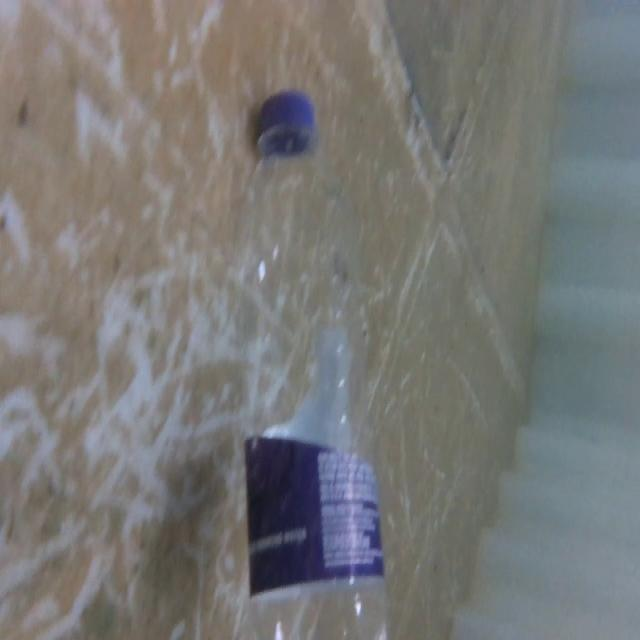plastic bottle: (230, 90, 405, 640)
